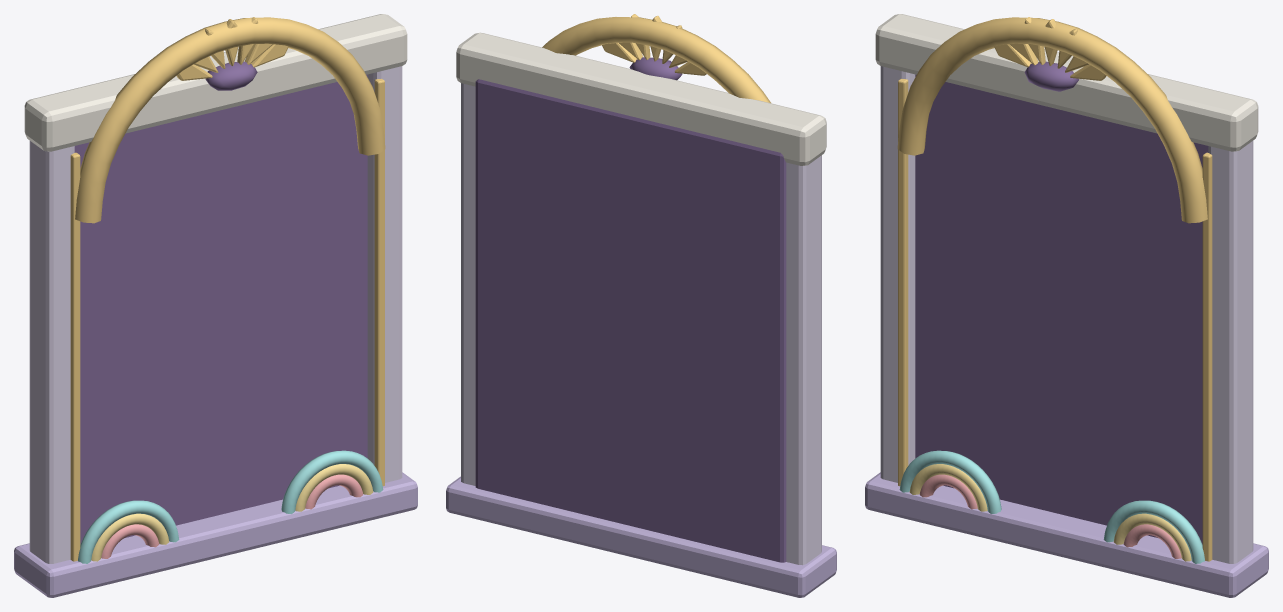
Rendered from lagoon_memory_frame.glb.
3 views of the same model, side by side, from view 1: azimuth 30°, elevation 25°; view 2: azimuth 150°, elevation 25°; view 3: azimuth 330°, elevation 25° (orthographic). The views are drawn at different scales.
Parts seen in each view (by area): view 1: lagoon_memory_frame.001; view 2: lagoon_memory_frame.001; view 3: lagoon_memory_frame.001.
Boxes of the visible parts, bbox=[...] form: lagoon_memory_frame.001: bbox=[14, 14, 417, 597]; lagoon_memory_frame.001: bbox=[446, 14, 836, 597]; lagoon_memory_frame.001: bbox=[865, 14, 1268, 597].
Size of the model in its own units: 6 by 8.35 by 1.2.
